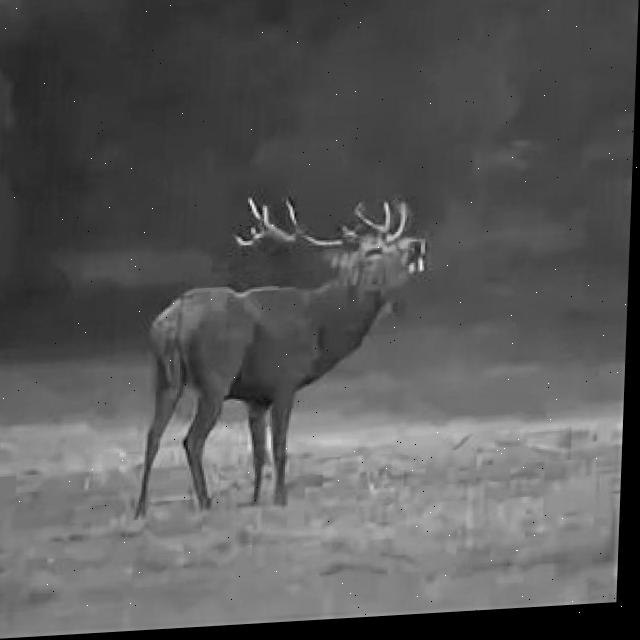Deer: (57, 134, 488, 556)
